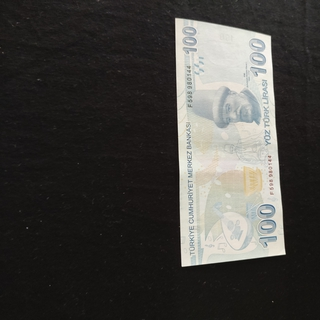100TLBack: (173, 16, 287, 267)
